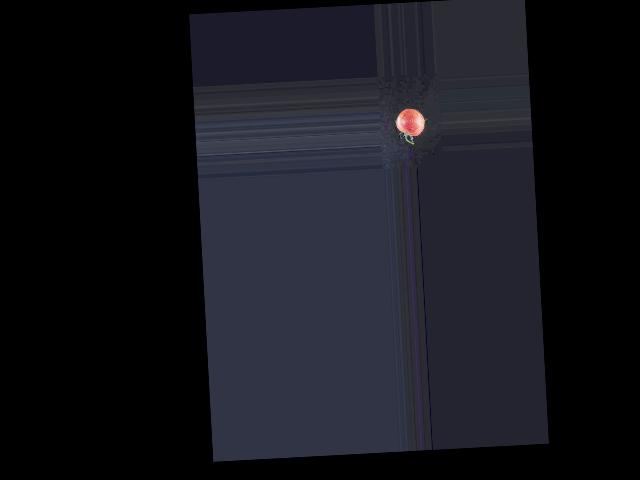tomato: (396, 108, 425, 137)
